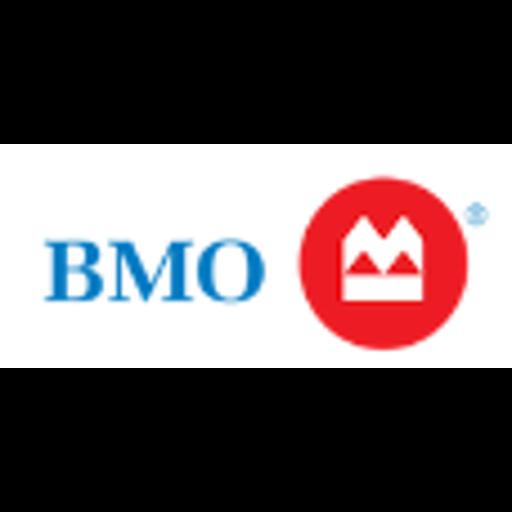Bank of Montreal: (0, 144, 512, 368)
